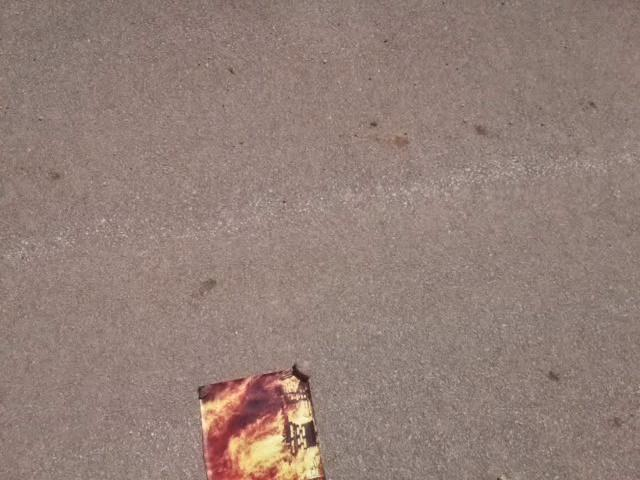fire-poster: (195, 362, 328, 479)
